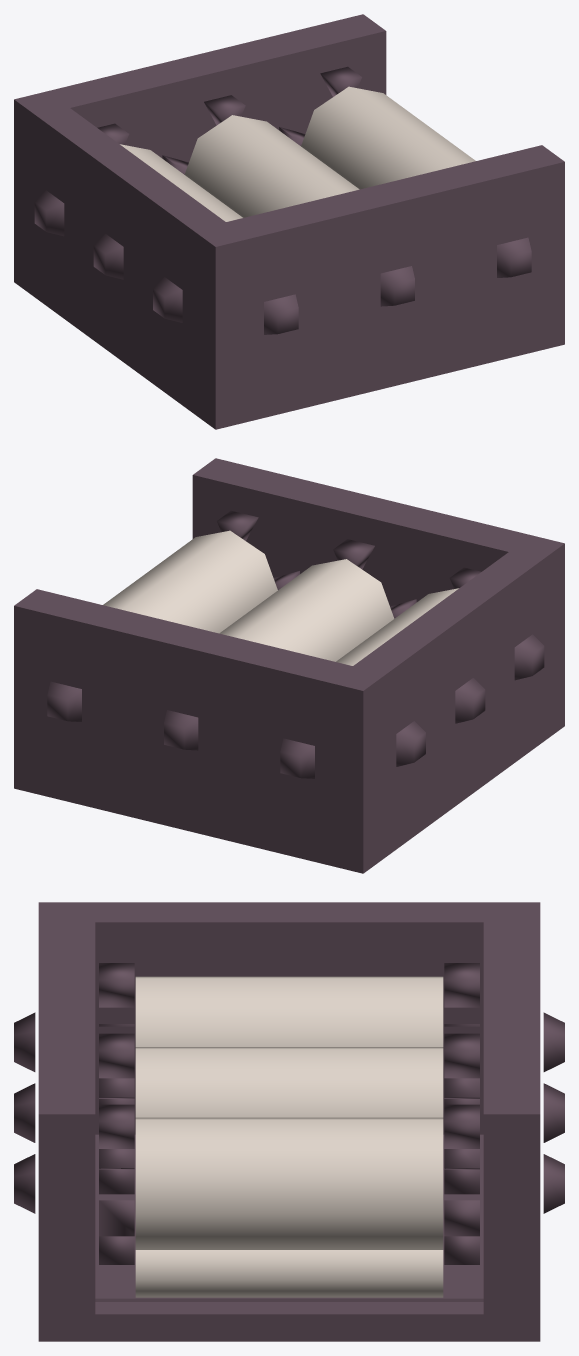
File: GB_106_109_110_113_114_117_118_conveyor_belt_halfwidth_end.glb
3 views of the same model, one above another, from view 1: azimuth 30°, elevation 25°; view 2: azimuth 150°, elevation 25°; view 3: azimuth 270°, elevation 25° (orthographic). The views are drawn at different scales.
Parts seen in each view (by area): view 1: Conveyor_Belt.003, Rolls.003, Bearing.018, Bearing.020, Bearing.019, Bearing.024, Bearing.025, Bearing.026, Bearing.021, Bearing.023; view 2: Conveyor_Belt.003, Rolls.003, Bearing.021, Bearing.022, Bearing.023, Bearing.024, Bearing.026, Bearing.025, Bearing.018, Bearing.019; view 3: Conveyor_Belt.003, Rolls.003, ThinRolls.003, Bearing.023, Bearing.019, Bearing.021, Bearing.018, Bearing.022, Bearing.020.
Part boxes in pixels (x1=…): Conveyor_Belt.003: x1=14, y1=14, x2=564, y2=429; Rolls.003: x1=120, y1=86, x2=475, y2=221; Bearing.018: x1=380, y1=266, x2=414, y2=306; Bearing.020: x1=264, y1=294, x2=298, y2=334; Bearing.019: x1=497, y1=237, x2=531, y2=277; Bearing.024: x1=93, y1=234, x2=123, y2=279; Bearing.025: x1=34, y1=190, x2=64, y2=236; Bearing.026: x1=153, y1=277, x2=182, y2=322; Bearing.021: x1=162, y1=95, x2=245, y2=174; Bearing.023: x1=279, y1=66, x2=361, y2=145; Conveyor_Belt.003: x1=14, y1=458, x2=564, y2=873; Rolls.003: x1=103, y1=530, x2=458, y2=665; Bearing.021: x1=164, y1=710, x2=198, y2=750; Bearing.022: x1=280, y1=738, x2=314, y2=778; Bearing.023: x1=47, y1=681, x2=81, y2=721; Bearing.024: x1=455, y1=678, x2=485, y2=723; Bearing.026: x1=514, y1=634, x2=544, y2=680; Bearing.025: x1=396, y1=721, x2=425, y2=766; Bearing.018: x1=333, y1=539, x2=416, y2=618; Bearing.019: x1=217, y1=510, x2=299, y2=589; Conveyor_Belt.003: x1=38, y1=902, x2=540, y2=1341; Rolls.003: x1=135, y1=976, x2=443, y2=1249; ThinRolls.003: x1=135, y1=1250, x2=443, y2=1297; Bearing.023: x1=444, y1=1104, x2=564, y2=1264; Bearing.019: x1=14, y1=1104, x2=134, y2=1264; Bearing.021: x1=444, y1=1033, x2=564, y2=1194; Bearing.018: x1=14, y1=1033, x2=134, y2=1194; Bearing.022: x1=444, y1=963, x2=564, y2=1104; Bearing.020: x1=14, y1=963, x2=134, y2=1104.
Bounding box in the file's own units: 0.786 × 0.375 × 0.8233.
